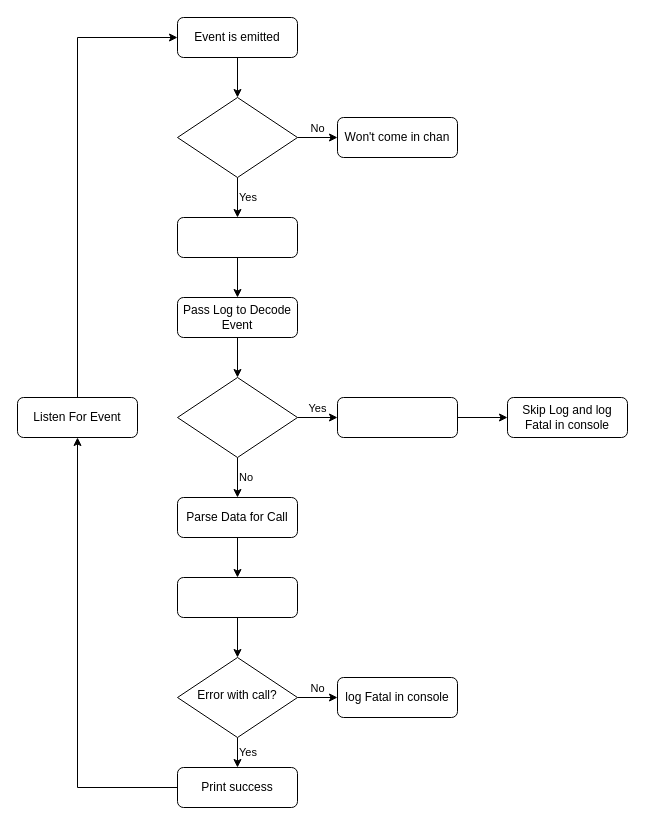
This 645x825 diagram has some shape labels left out. The shapes that lost their labels are listed below. From the top down, each one's box as (x1, y1, x2, y2) in pixels, then its label:
(176, 96, 298, 178): Is Lock Event?
(176, 216, 298, 258): Pass Log to chan
(176, 376, 298, 458): Missing data?
(336, 396, 458, 438): Return err
(176, 576, 298, 618): Make vote Call
